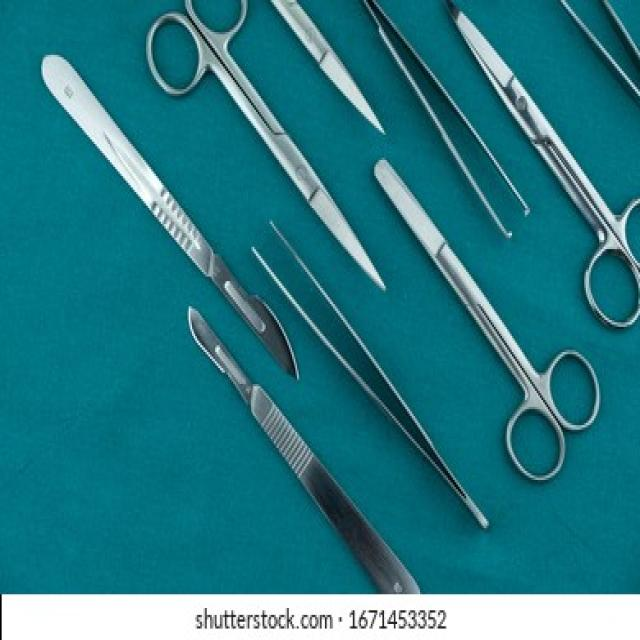B3: (342, 137, 620, 494), (140, 2, 397, 300), (430, 2, 640, 332)
